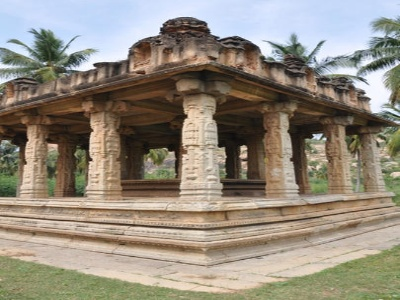mandapa: (10, 21, 382, 216)
